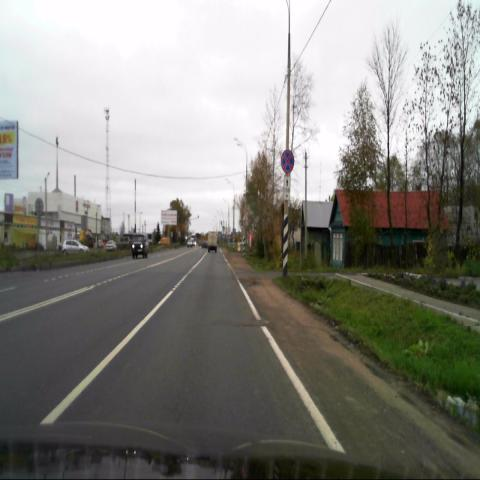3_27: (280, 149, 294, 174)
8_2_2: (283, 175, 291, 200)
